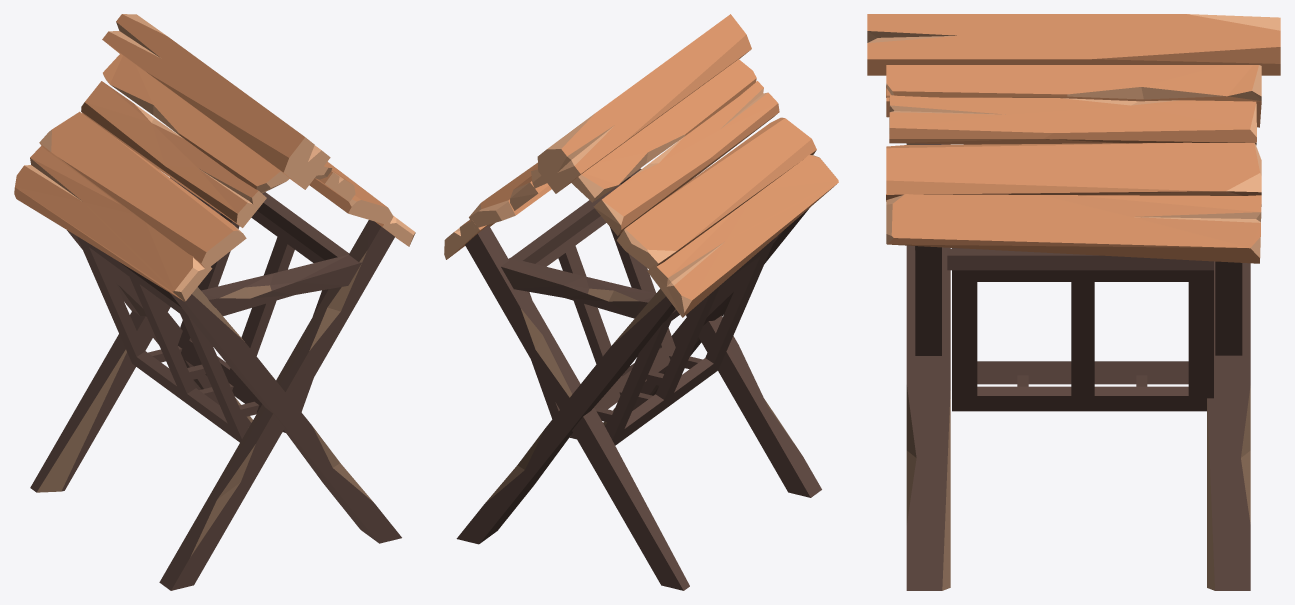
File: Feeder_1.fbx
3 views of the same model, side by side, from view 1: azimuth 30°, elevation 25°; view 2: azimuth 150°, elevation 25°; view 3: azimuth 270°, elevation 25° (orthographic). The views are drawn at different scales.
Visible parts, largest first — view 1: Feeder_1; view 2: Feeder_1; view 3: Feeder_1.
Part boxes in pixels (bbox=[...]): Feeder_1: bbox=[14, 14, 415, 590]; Feeder_1: bbox=[444, 14, 838, 590]; Feeder_1: bbox=[867, 14, 1280, 590].
Bounding box in the file's own units: 34.8 × 58.28 × 42.61.
